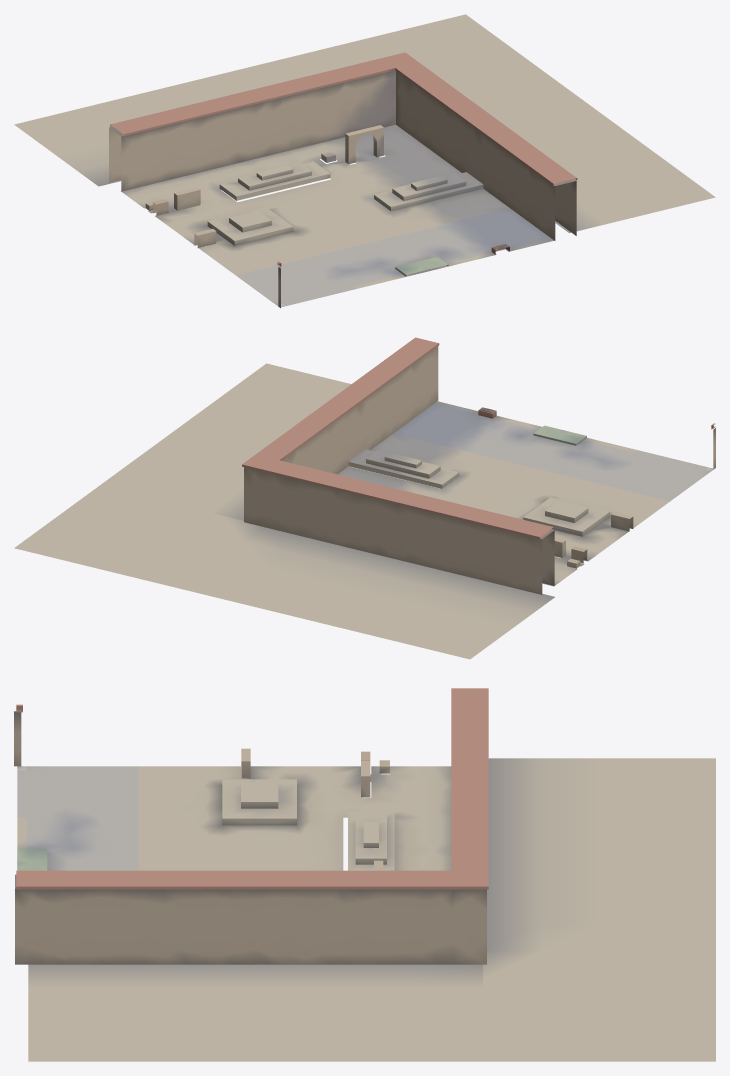
3 renders of one model, top to bottom at view 1: azimuth 30°, elevation 25°; view 2: azimuth 150°, elevation 25°; view 3: azimuth 270°, elevation 25°, orthographic. The views are drawn at different scales.
Visible parts, largest first — view 1: t; view 2: t; view 3: t.
Part boxes in pixels (bbox=[...]): t: bbox=[14, 14, 715, 308]; t: bbox=[14, 337, 715, 659]; t: bbox=[14, 688, 715, 1061].
Bounding box in the file's own units: 77 × 9.35 × 75.37.
